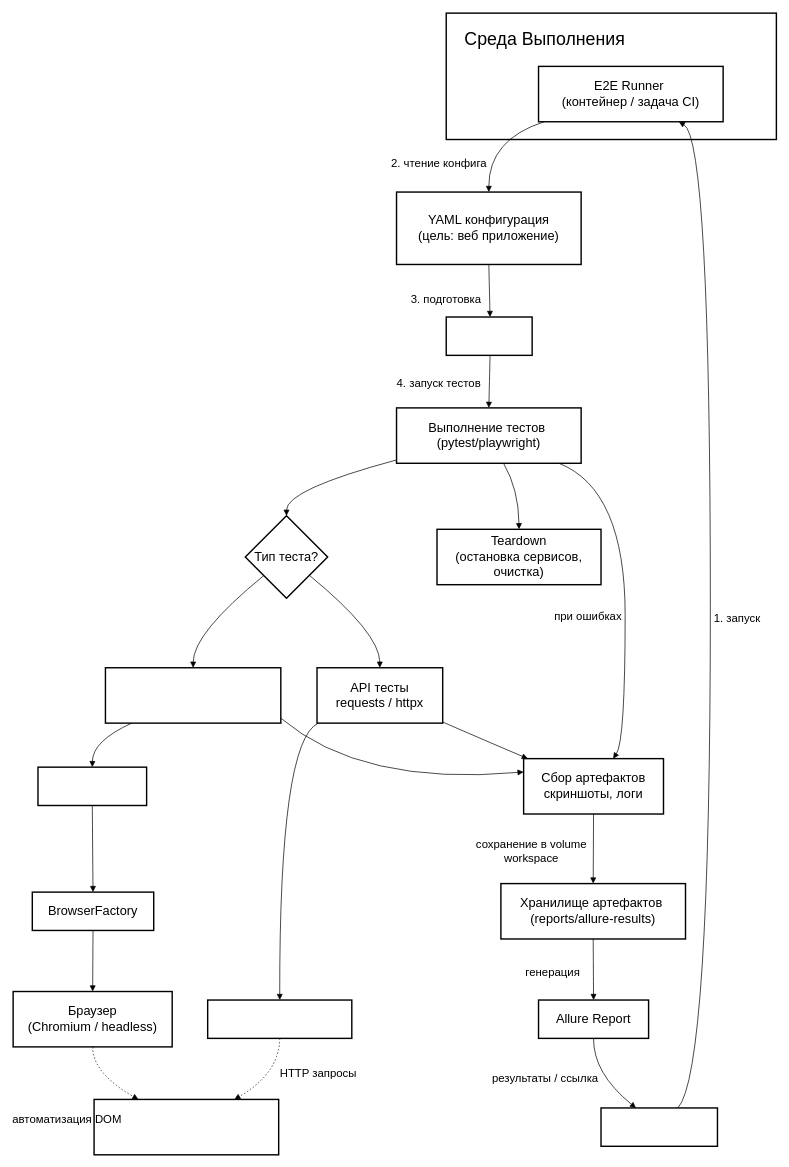
This 789x1167 diagram has some shape labels left out. Here are the shapes that lost their labels. From the top down, the centre of each, then its label:
At [488,336]: "Setup (conftest)".
At [192,695]: "UI тесты Playwright + Page Objects".
At [92,786]: "Page Objects".
At [279,1019]: "API Клиент / утилиты".
At [186,1126]: "Веб приложение (SUT)".
At [659,1127]: "Разработчик / CI".
